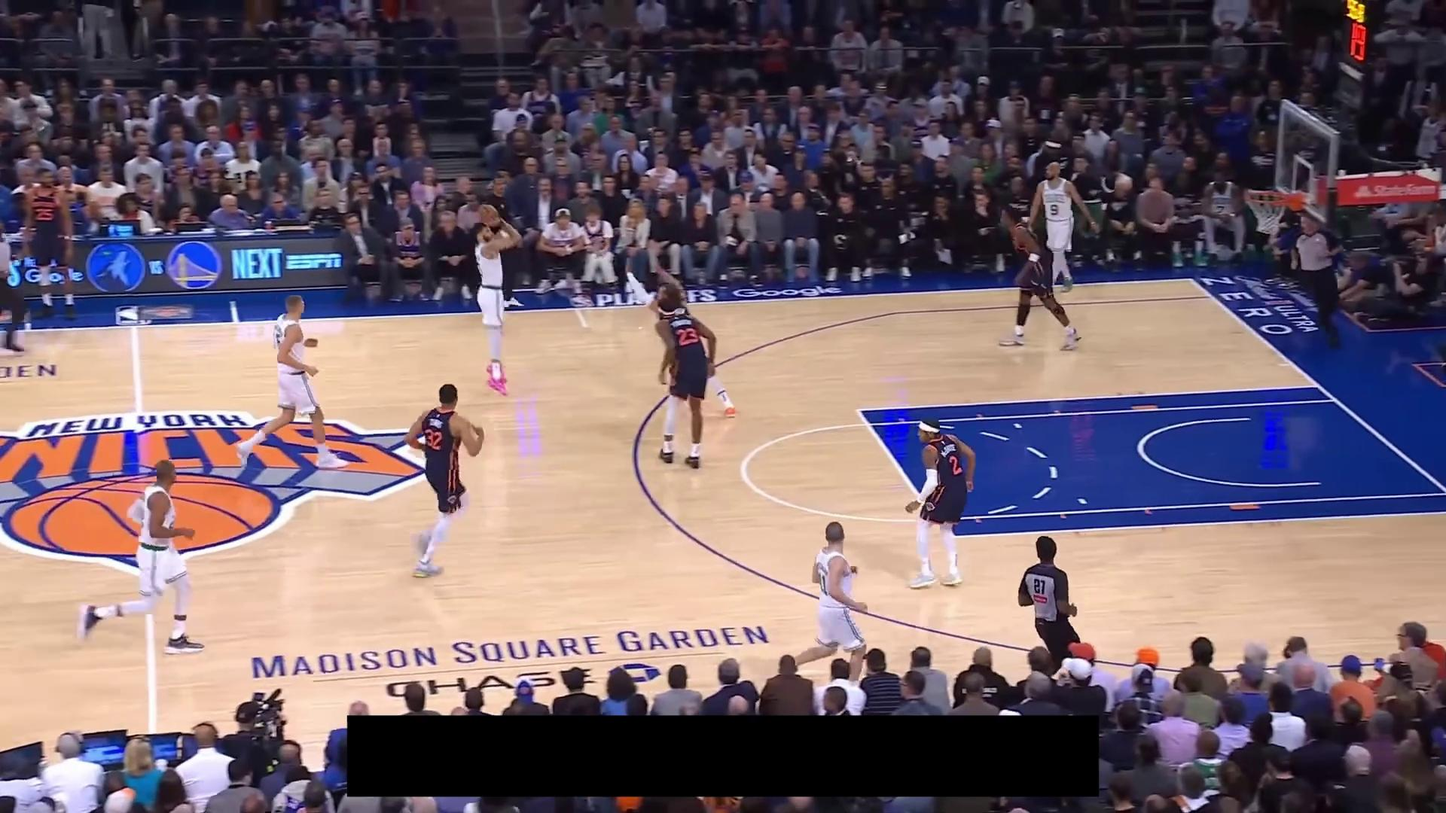ball: (477, 203, 499, 226)
number: (677, 327, 699, 346), (425, 428, 443, 451), (948, 454, 961, 476), (1049, 202, 1060, 217)
player: (74, 458, 207, 656), (233, 293, 350, 471), (774, 516, 874, 685), (403, 382, 487, 579), (897, 412, 981, 593), (648, 263, 739, 422), (997, 205, 1081, 352), (652, 297, 717, 470), (1027, 160, 1100, 293)
player-jump-shot: (471, 202, 523, 397)
referee: (1017, 535, 1083, 678), (1289, 214, 1344, 349)
rim: (1244, 189, 1289, 205)
